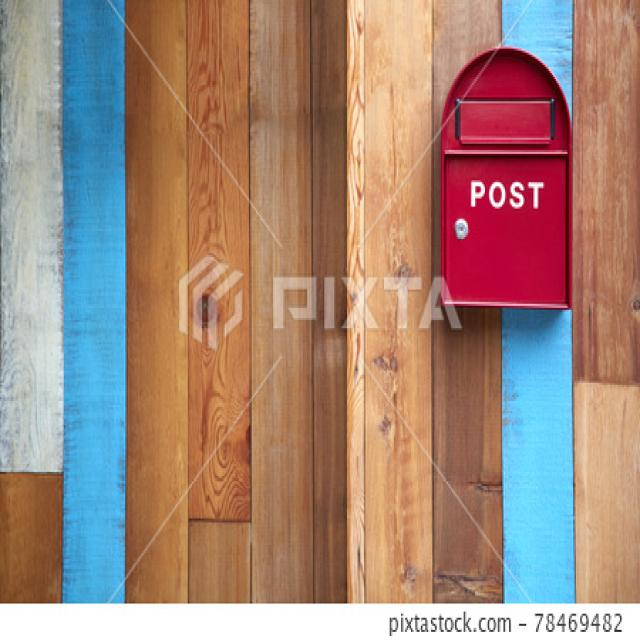Post Box: (440, 44, 572, 312)
